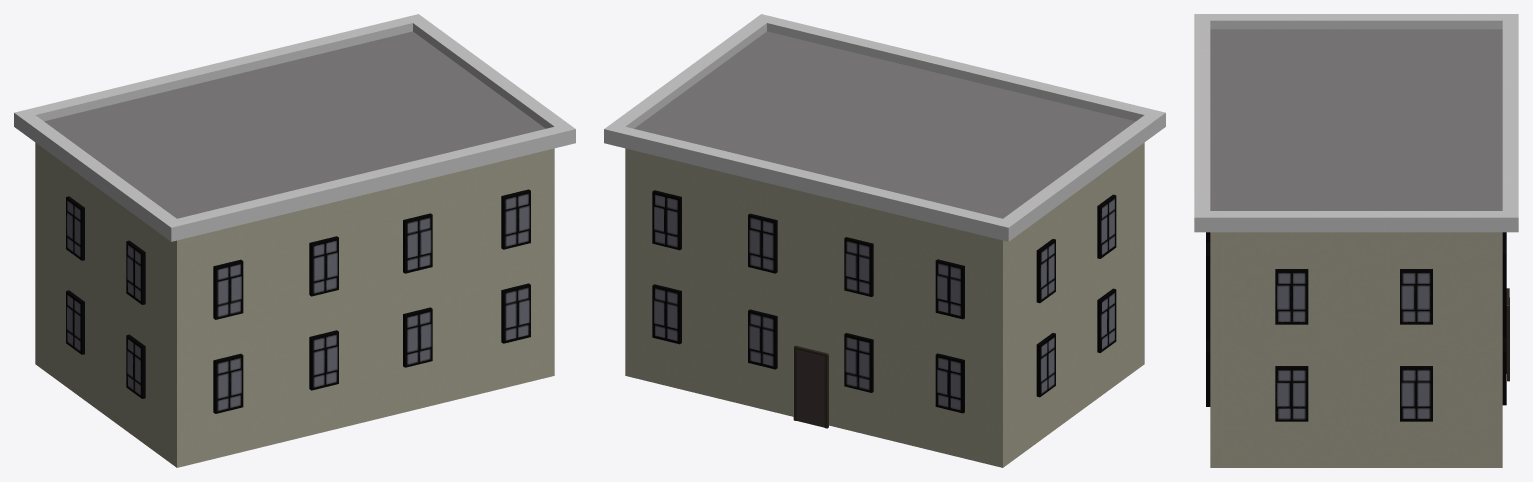
Rendered from SimpleBuilding.FBX.
3 renders of one model, left to right at view 1: azimuth 30°, elevation 25°; view 2: azimuth 150°, elevation 25°; view 3: azimuth 270°, elevation 25°, orthographic. The views are drawn at different scales.
Parts seen in each view (by area): view 1: SimpleBuilding; view 2: SimpleBuilding; view 3: SimpleBuilding.
Boxes of the visible parts, <box> form: SimpleBuilding: <box>14,14,575,467</box>; SimpleBuilding: <box>604,14,1165,467</box>; SimpleBuilding: <box>1194,14,1518,467</box>.
Bounding box in the file's own units: 30006 × 20203 × 17658.
Materials: 1 (1 with a texture image).
